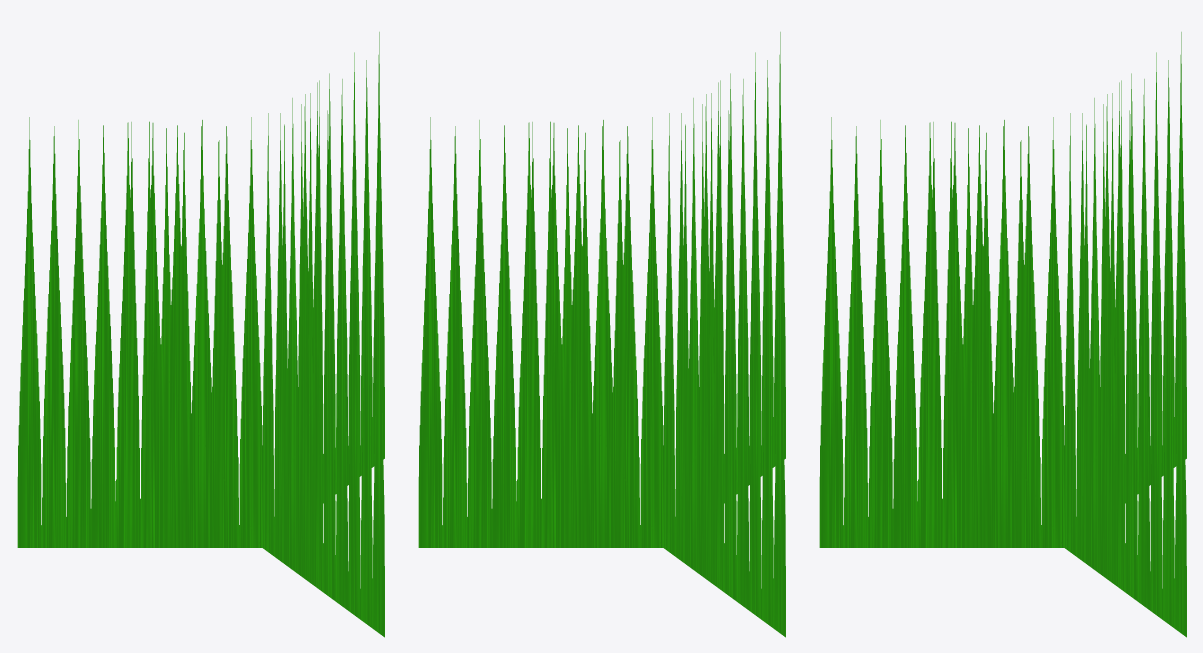
File: weed01.fbx
The picture shows the model from 3 angles, left to right: view 1: azimuth 30°, elevation 25°; view 2: azimuth 150°, elevation 25°; view 3: azimuth 270°, elevation 25°; orthographic projection.
Parts seen in each view (by area): view 1: weed01; view 2: weed01; view 3: weed01.
Part boxes in pixels (x1,y1,x2,y2): weed01: (17,32,384,637); weed01: (418,32,785,637); weed01: (819,32,1186,637).
Bounding box in the file's own units: 8.8 × 10 × 7.62.
Materials: 1 (1 with a texture image).
